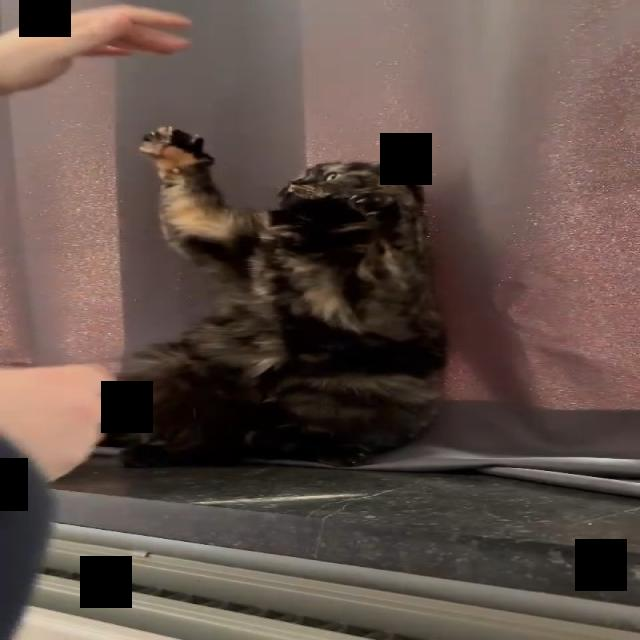authorized: (110, 124, 450, 468)
